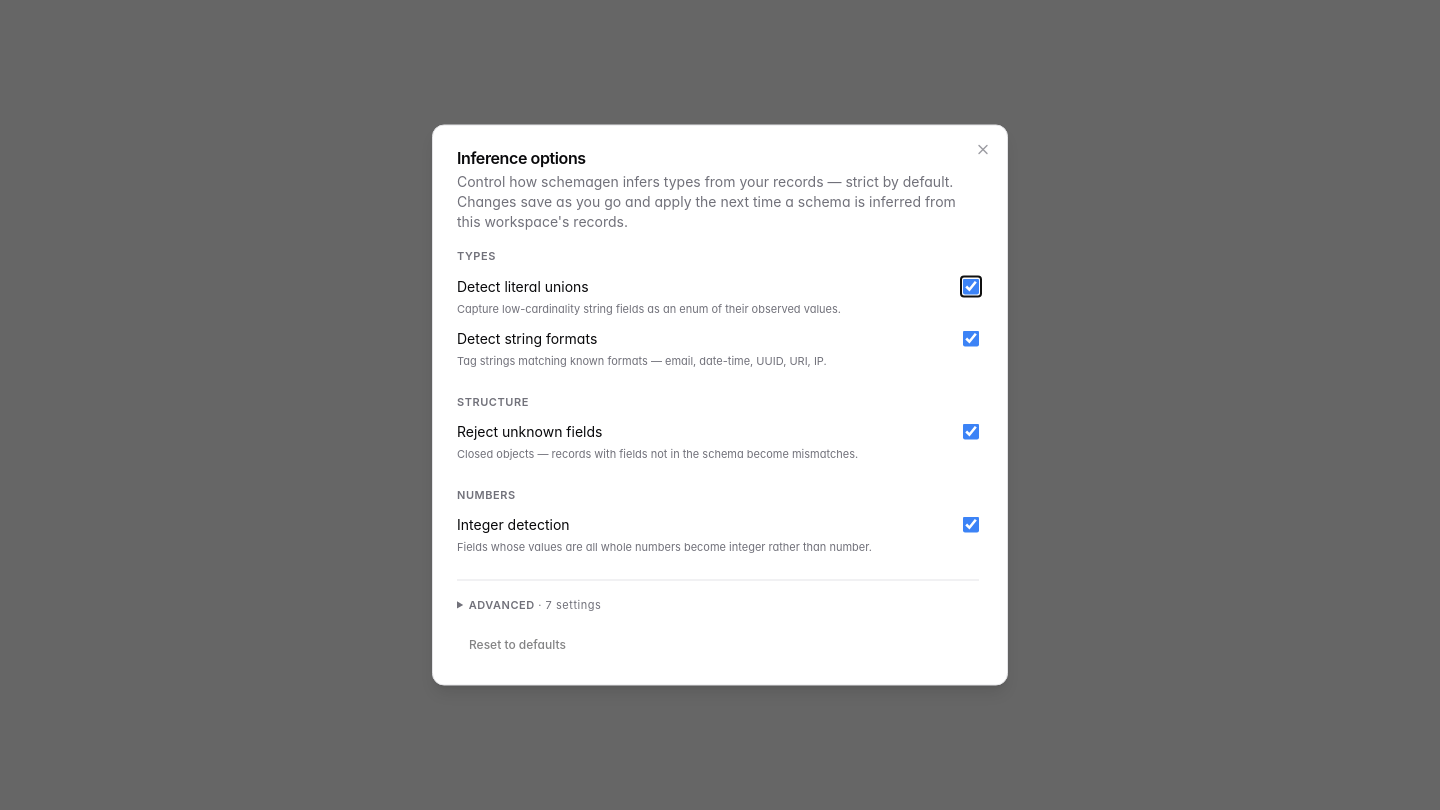
Test: InferenceOptionsDialog › Z-D8: discriminators is an Advanced toggle, not its own group, no field picker
The width and height of the screenshot is (1440, 810).
Expected: the element "discriminators" is not shown
Click the heading "Advanced · 7 settings".
click(529, 604)  # box [457, 596, 602, 612]
(page scrolled)
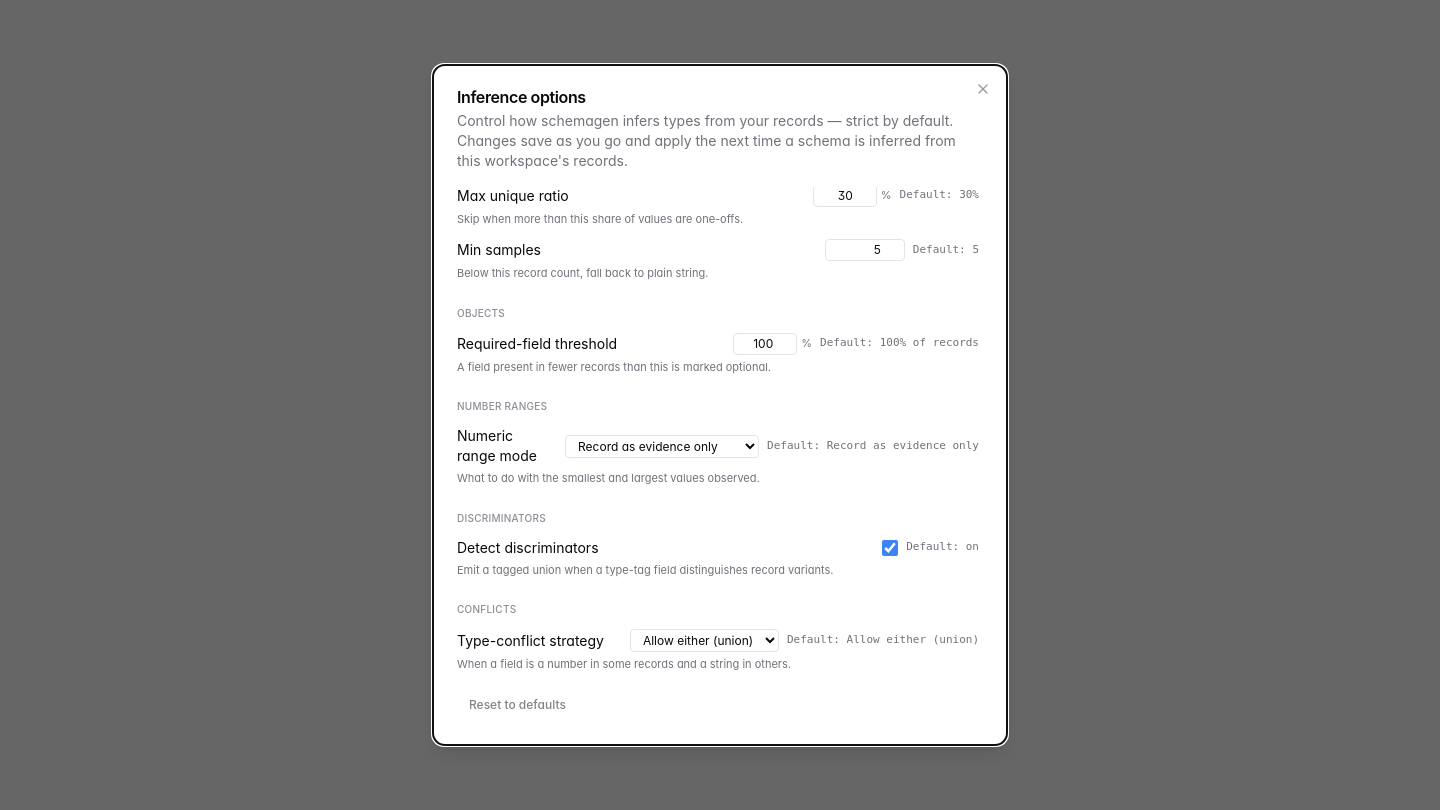
Now the checkbox labelled "Detect discriminators" is shown, box [882, 540, 898, 556]
